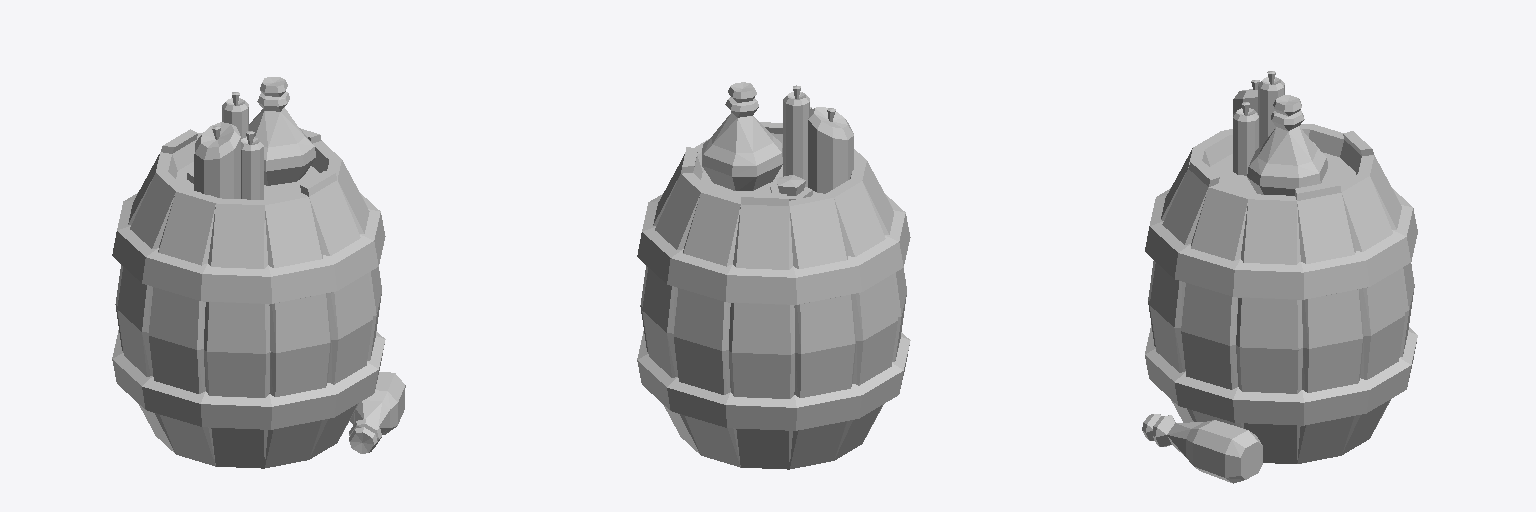
File: barrel_large_decorated.obj
3 views of the same model, side by side, from view 1: azimuth 30°, elevation 25°; view 2: azimuth 150°, elevation 25°; view 3: azimuth 270°, elevation 25° (orthographic).
Parts seen in each view (by area): view 1: barrel_large_decorated_Cylinder.008; view 2: barrel_large_decorated_Cylinder.008; view 3: barrel_large_decorated_Cylinder.008.
Part boxes in pixels (left/top/right/bottom): barrel_large_decorated_Cylinder.008: left=112, top=77, right=405, bottom=468; barrel_large_decorated_Cylinder.008: left=637, top=82, right=910, bottom=469; barrel_large_decorated_Cylinder.008: left=1142, top=71, right=1417, bottom=483.
Size of the model in its own units: 1.94 by 2.56 by 1.86.